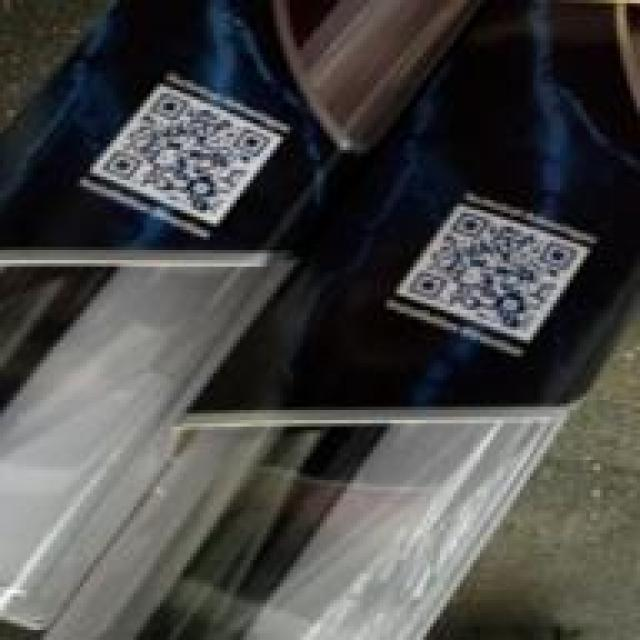QR_CODE: (374, 177, 614, 370), (74, 69, 294, 254)
